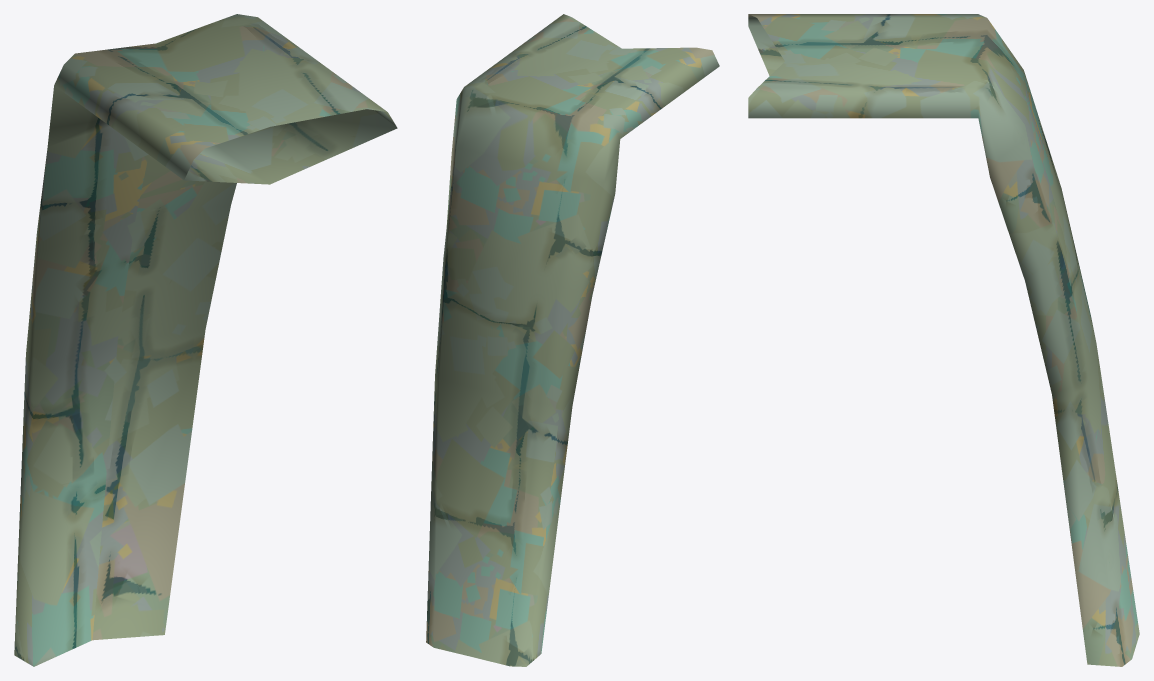
File: Waterfall.fbx
The picture shows the model from 3 angles, left to right: view 1: azimuth 30°, elevation 25°; view 2: azimuth 150°, elevation 25°; view 3: azimuth 270°, elevation 25°; orthographic projection. The views are drawn at different scales.
Parts seen in each view (by area): view 1: WaterFall; view 2: WaterFall; view 3: WaterFall.
Part boxes in pixels (left/top/right/bottom): WaterFall: left=14, top=14, right=397, bottom=666; WaterFall: left=426, top=14, right=719, bottom=666; WaterFall: left=748, top=14, right=1139, bottom=666.
Bounding box in the file's own units: 86.26 × 255 × 155.
